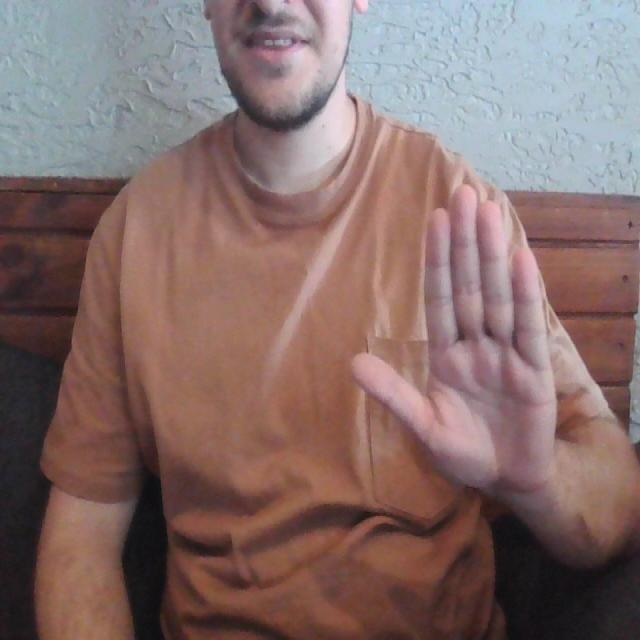Dur: (346, 168, 558, 513)
